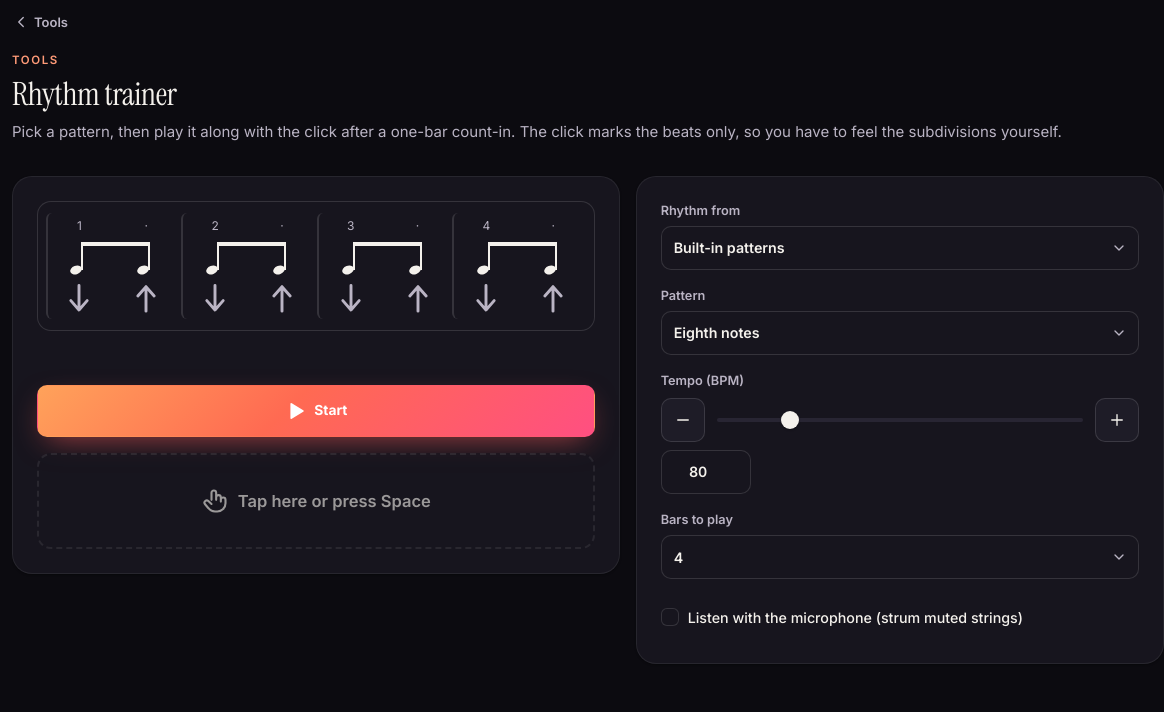
Scenario: RhythmTrainerView › explains that the microphone needs calibration
Click the 1st checkbox with test id "rhythm-mic" at (670, 617), box [661,608,679,626]
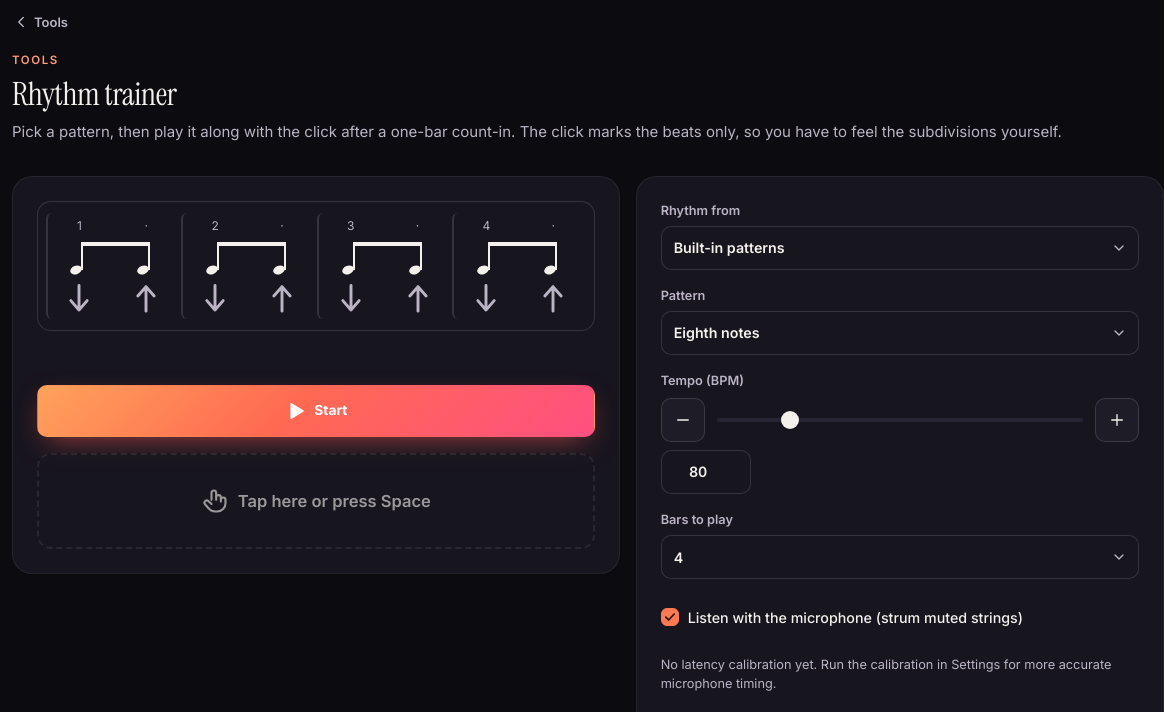
Result: the text with test id "rhythm-mic-hint" shows "calibration" at [661,657,1111,691]
